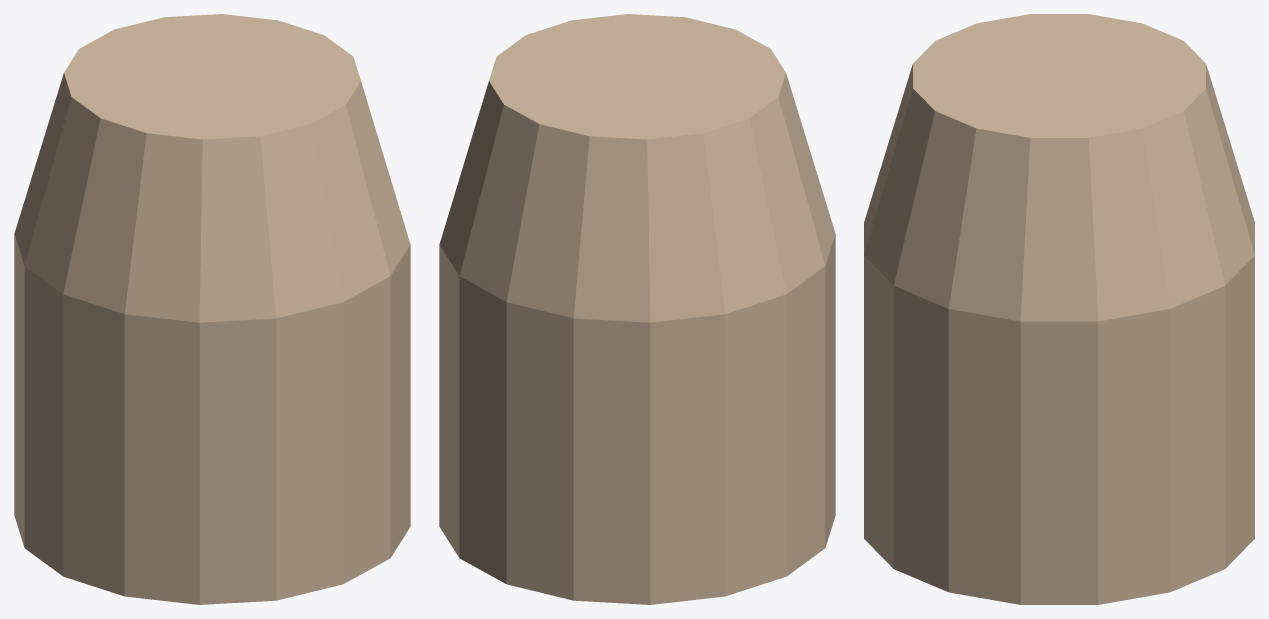
Rendered from vega_crew_s1_1_collider.obj.
3 views of the same model, side by side, from view 1: azimuth 30°, elevation 25°; view 2: azimuth 150°, elevation 25°; view 3: azimuth 270°, elevation 25° (orthographic).
Parts seen in each view (by area): view 1: collider; view 2: collider; view 3: collider.
Boxes of the visible parts, x1,y1,x2,y2 form: collider: (14,14,410,604); collider: (439,14,835,604); collider: (864,14,1254,604).
Bounding box in the file's own units: 1.25 × 1.58 × 1.25.
